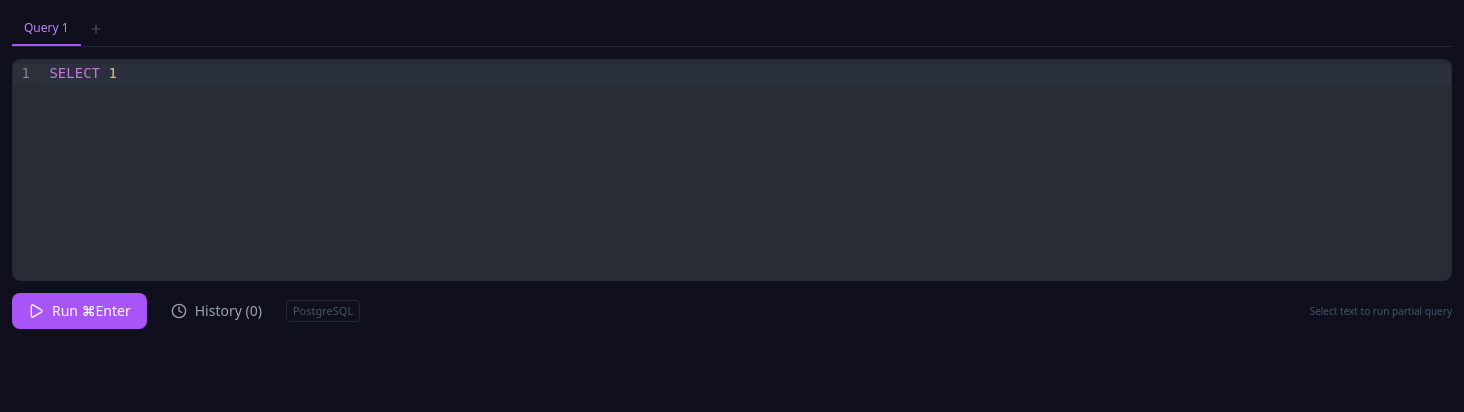
SqlEditorPage › a refused query shows the server's reason where a SQL error would be
The width and height of the screenshot is (1464, 412).
Click the button with test id "run-query-btn" at (79, 311), box x1=12 y1=293 x2=147 y2=329
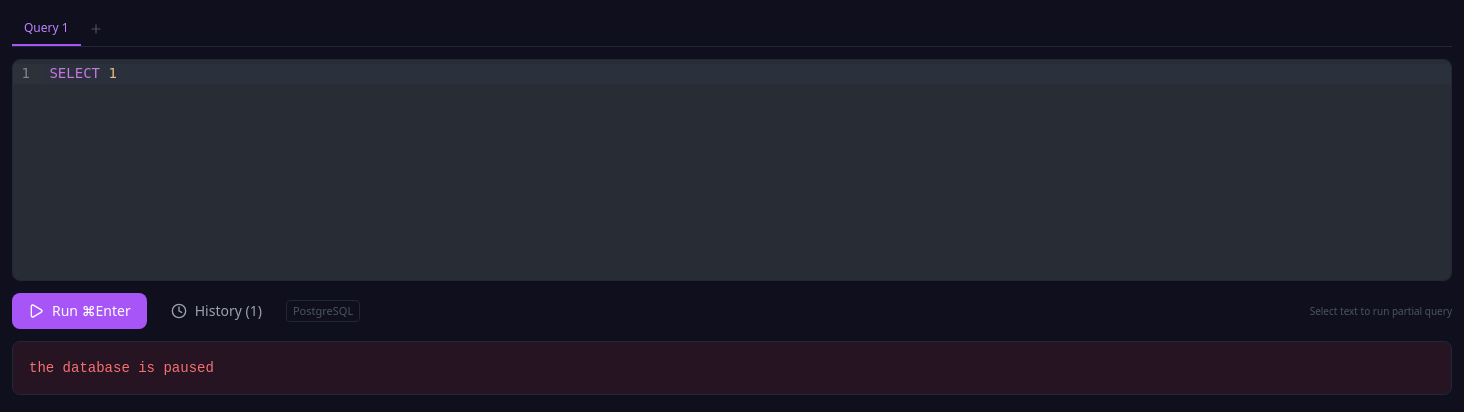
Result: the text with test id "query-error" reads "the database is paused" at x1=29 y1=360 x2=214 y2=376
